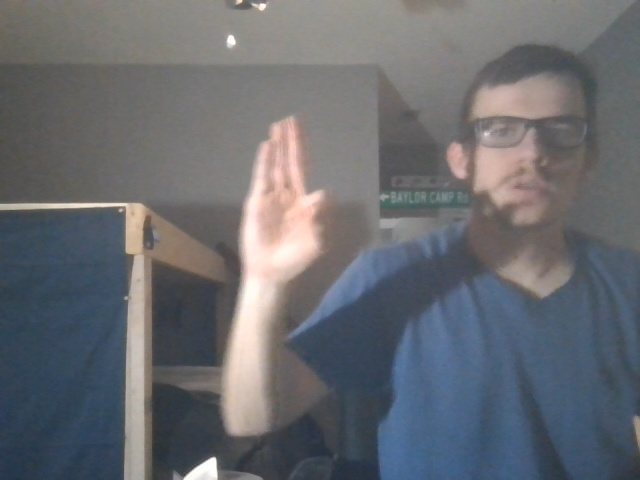F: (234, 116, 340, 285)
